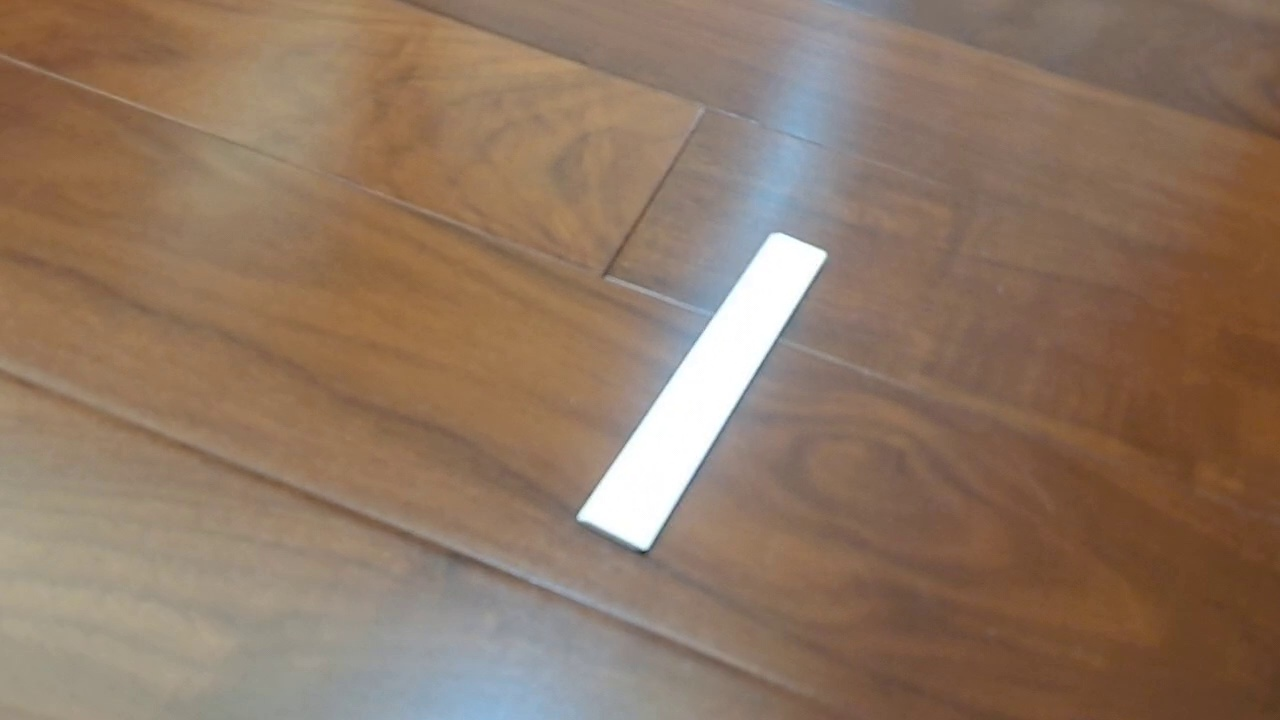ruler: (574, 230, 830, 557)
